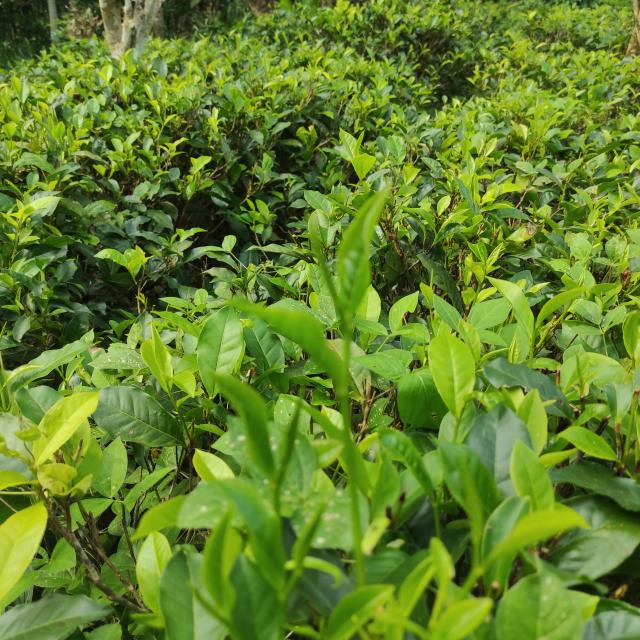unopened_leaf: (306, 198, 350, 336), (449, 452, 492, 574), (283, 496, 335, 591), (269, 385, 304, 492)
